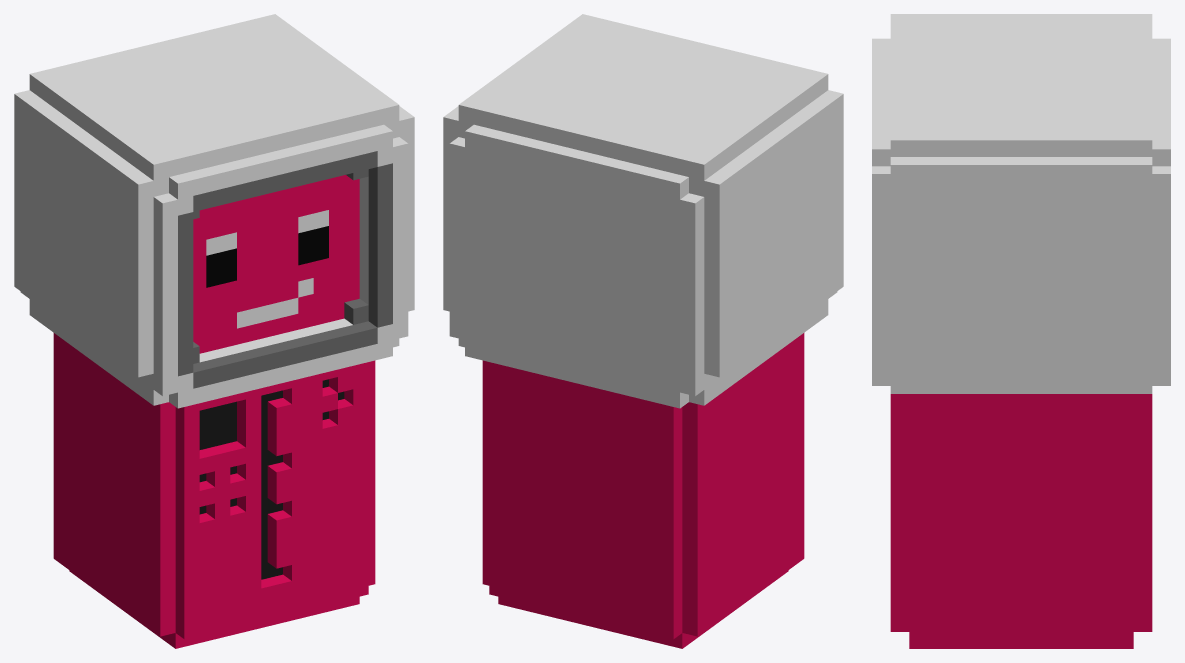
Rendered from voxelcapsule.gltf.
3 renders of one model, left to right at view 1: azimuth 30°, elevation 25°; view 2: azimuth 150°, elevation 25°; view 3: azimuth 270°, elevation 25°, orthographic. The views are drawn at different scales.
Visible parts, largest first — view 1: voxelcapsule.002; view 2: voxelcapsule.002; view 3: voxelcapsule.002.
Boxes of the visible parts, left/top/right/bottom form: voxelcapsule.002: left=14, top=14, right=414, bottom=648; voxelcapsule.002: left=443, top=14, right=843, bottom=648; voxelcapsule.002: left=872, top=14, right=1170, bottom=648.
Size of the model in its own units: 1.8 by 3.1 by 1.6.
